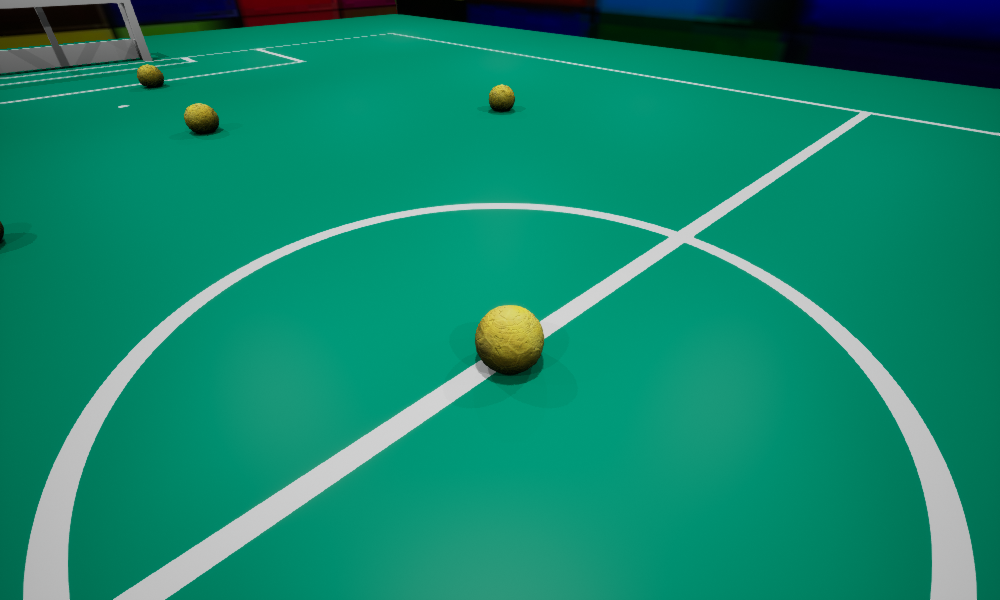b: (475, 305, 543, 373), (184, 103, 218, 133), (489, 84, 514, 111), (137, 64, 163, 87), (0, 221, 3, 240)
g: (0, 0, 151, 73)
